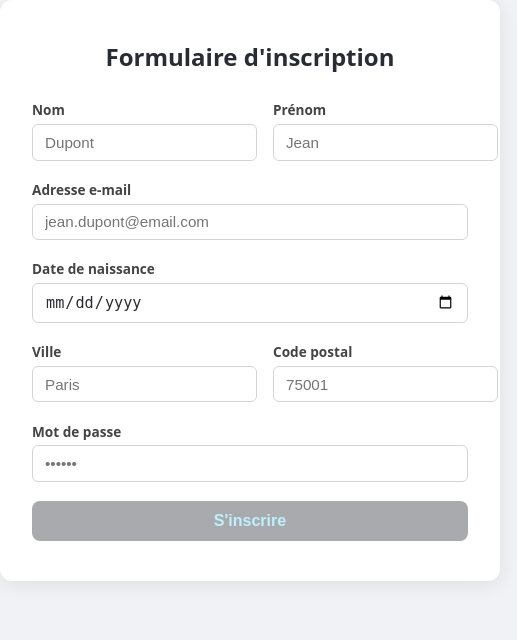
Test case: shows a red error when ville contains digits after blur
In the field labelled "Ville": x=144, y=384 [32,366,257,402], type "Paris75"
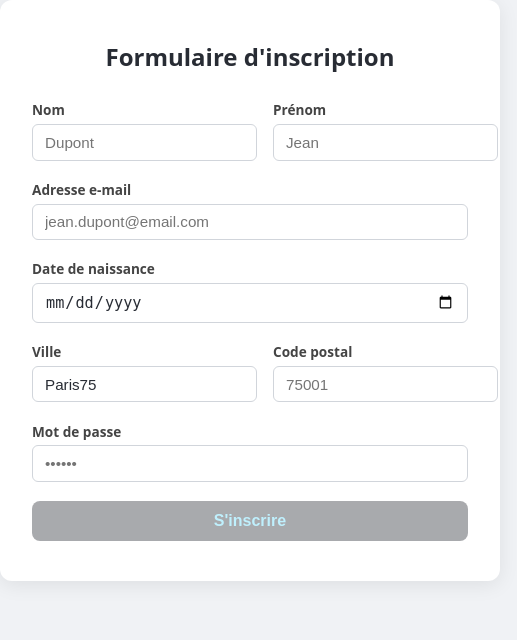
Leave the field labelled "Ville", box [32,366,257,402]
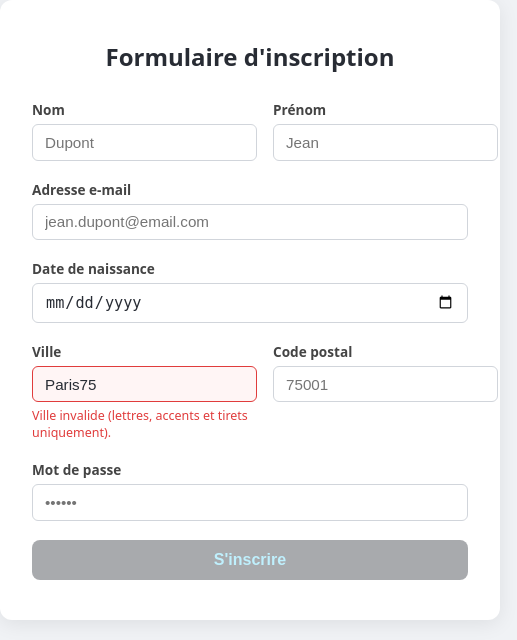
Check: the text "Ville invalide (lettres, accents et tirets uniquement)." is shown, box [32,407,257,441]
